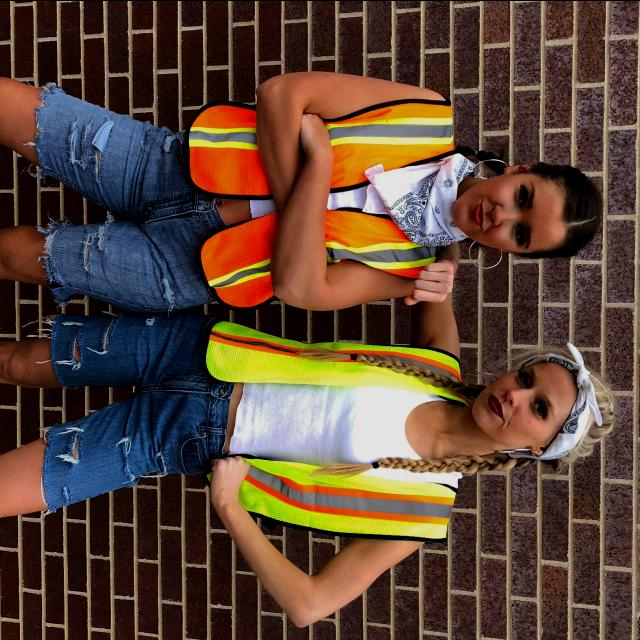Reflective Vest: (186, 89, 472, 314), (199, 312, 462, 554)
